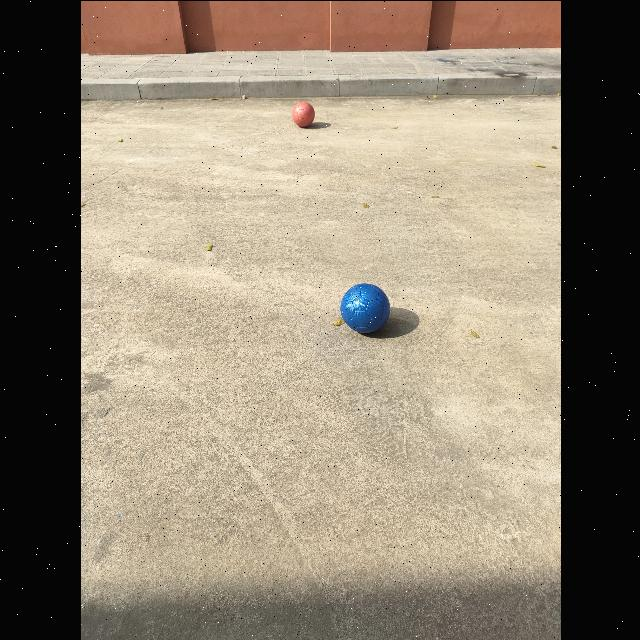B: (339, 282, 390, 333)
R: (291, 100, 314, 127)
